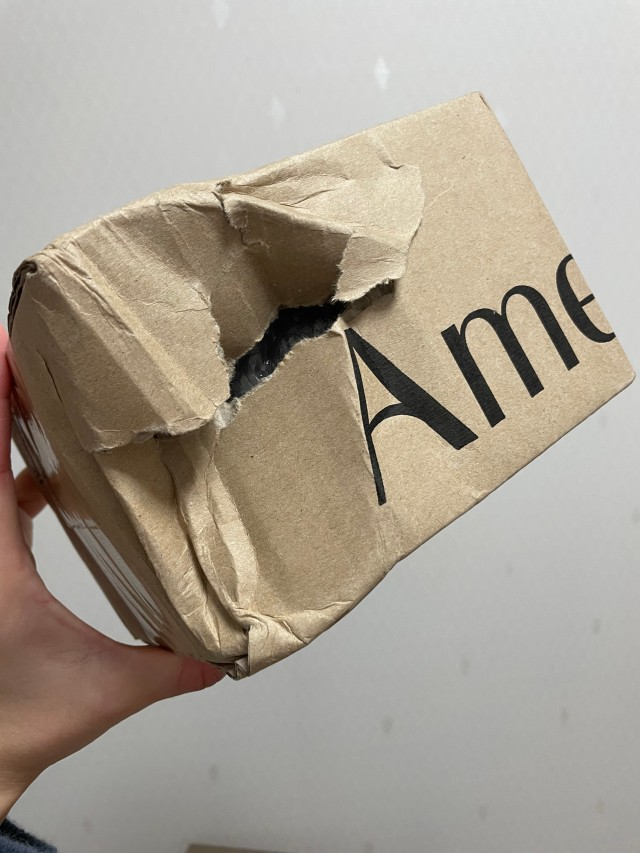damaged package: (44, 122, 447, 463), (164, 490, 361, 684)
